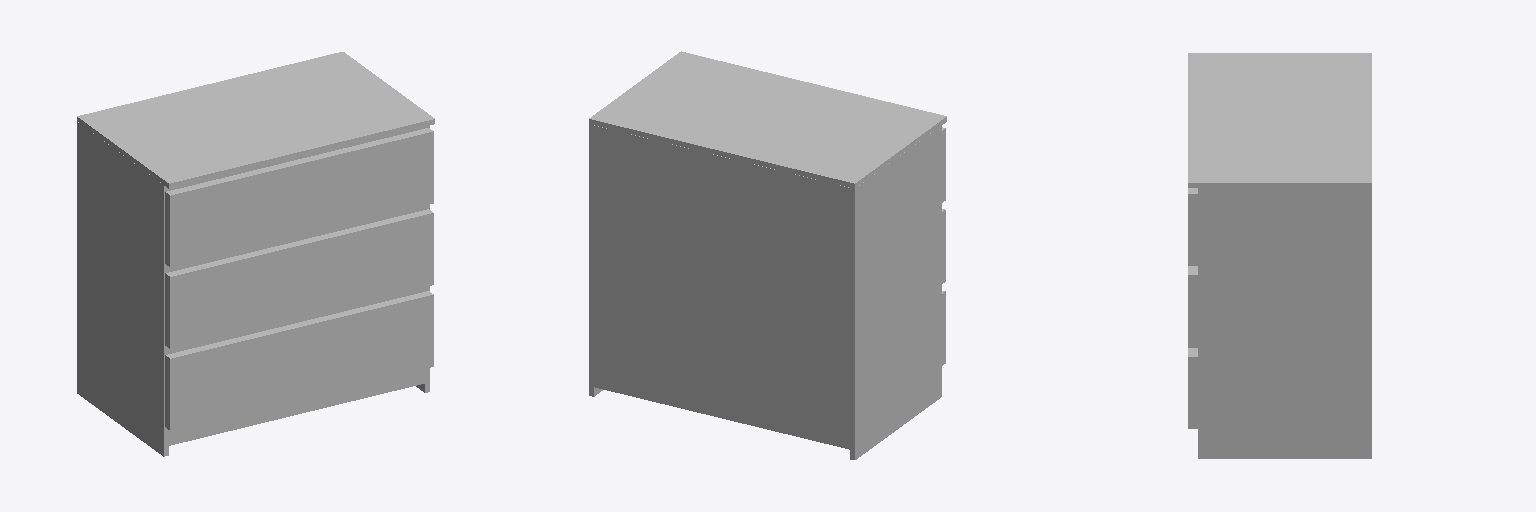
The model's file is MALMx3.obj.
3 views of the same model, side by side, from view 1: azimuth 30°, elevation 25°; view 2: azimuth 150°, elevation 25°; view 3: azimuth 270°, elevation 25° (orthographic).
Visible parts, largest first — view 1: Cube.006_Cube.007, Cube.001_Cube.002, Cube.003_Cube.004; view 2: Cube.003_Cube.004, Cube.001_Cube.002, Cube.006_Cube.007; view 3: Cube.001_Cube.002, Cube.006_Cube.007.
Boxes of the visible parts, <box> form: Cube.006_Cube.007: <box>165,128,433,430</box>; Cube.001_Cube.002: <box>77,52,434,456</box>; Cube.003_Cube.004: <box>167,126,426,445</box>; Cube.003_Cube.004: <box>592,125,851,449</box>; Cube.001_Cube.002: <box>589,51,946,459</box>; Cube.006_Cube.007: <box>942,127,945,365</box>; Cube.001_Cube.002: <box>1188,53,1371,458</box>; Cube.006_Cube.007: <box>1188,188,1197,428</box>.
Size of the model in its own units: 1.6 by 1.59 by 0.959.